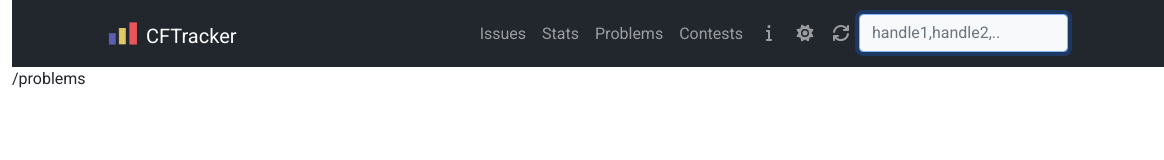
it: the Stats menu link navigates to /stats
Click the link "Stats" at (561, 33), box top-left (542, 24), bottom-right (579, 43)
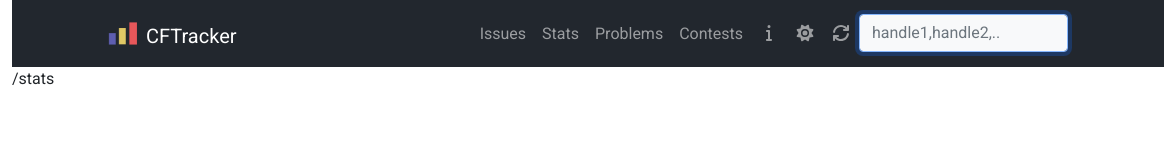
Check: the text with test id "location" reads "/stats", box top-left (12, 69), bottom-right (54, 88)
